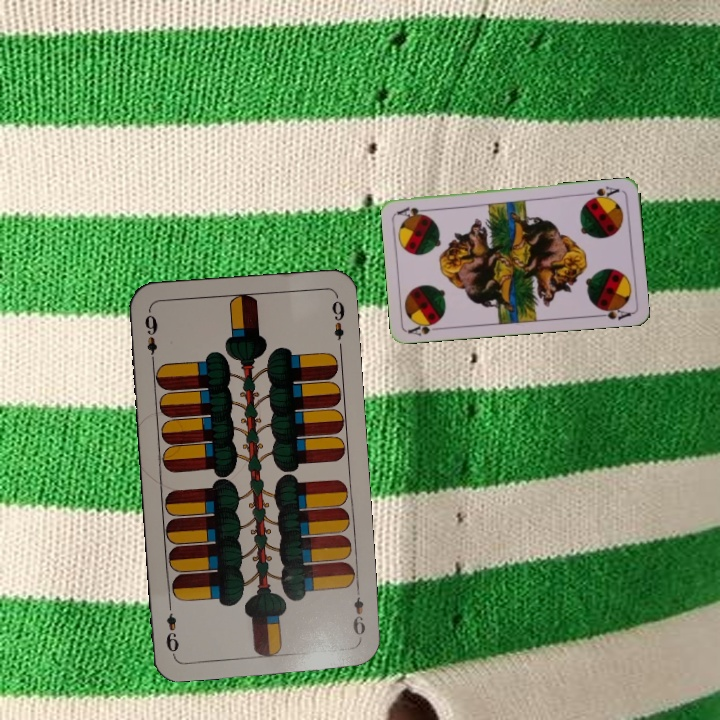E9: (348, 583, 368, 643), (140, 307, 160, 366)
SA: (405, 317, 445, 338), (583, 182, 622, 203)
